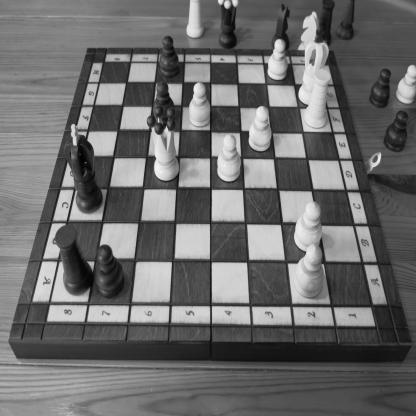black-bishop: (336, 0, 355, 41)
black-knight: (271, 3, 290, 50)
black-pawn: (94, 243, 125, 299), (383, 109, 409, 153), (152, 81, 175, 127), (368, 68, 392, 109), (159, 35, 180, 78)
black-queen: (217, 0, 239, 50)
black-rook: (54, 224, 94, 295), (318, 0, 336, 47)
white-king: (298, 25, 329, 106)
white-knight: (298, 11, 320, 51)
white-pawn: (294, 243, 324, 299), (294, 200, 323, 252), (217, 134, 242, 182), (248, 106, 272, 152), (188, 82, 210, 127), (267, 38, 288, 81), (395, 64, 415, 106)
white-queen: (146, 105, 180, 182)
white-rook: (303, 68, 331, 129), (186, 0, 205, 39)
